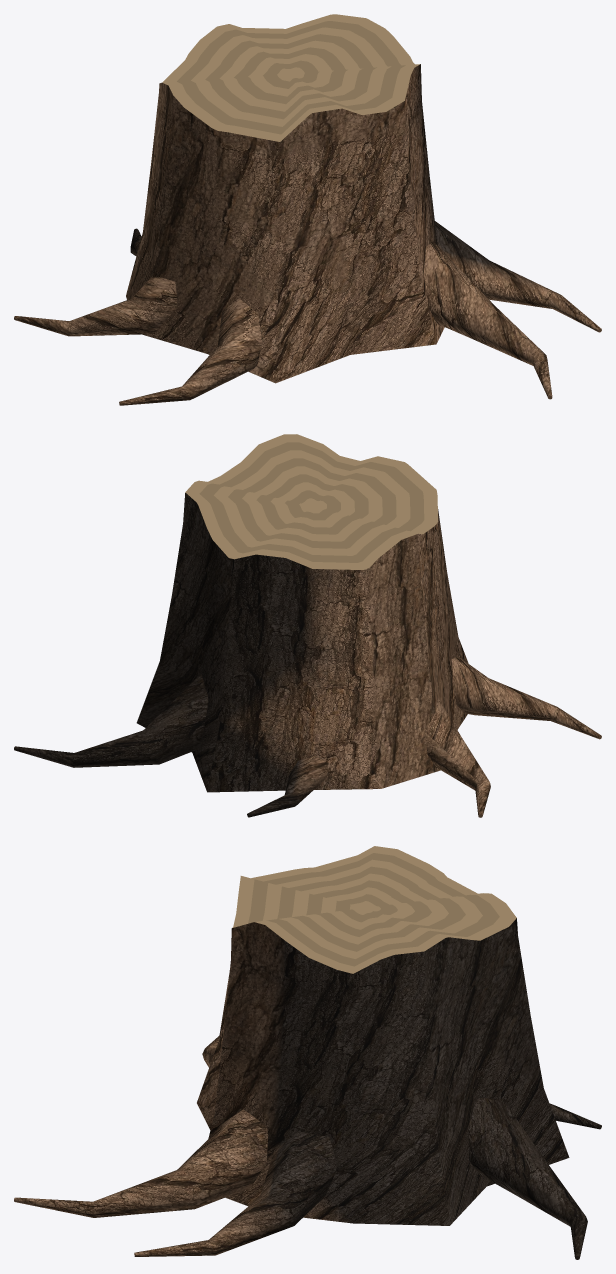
Rendered from corealm_stump_wilderness_teak.glb.
3 views of the same model, one above another, from view 1: azimuth 30°, elevation 25°; view 2: azimuth 150°, elevation 25°; view 3: azimuth 270°, elevation 25° (orthographic). The views are drawn at different scales.
Visible parts, largest first — view 1: corealm_stump_wilderness_teak; view 2: corealm_stump_wilderness_teak; view 3: corealm_stump_wilderness_teak.
Part boxes in pixels (x1,y1,x2,y2): corealm_stump_wilderness_teak: (14,14,601,405); corealm_stump_wilderness_teak: (14,434,601,817); corealm_stump_wilderness_teak: (14,846,601,1259).
Bounding box in the file's own units: 0.872 × 0.472 × 0.9421.
Materials: 2 (1 with a texture image).
